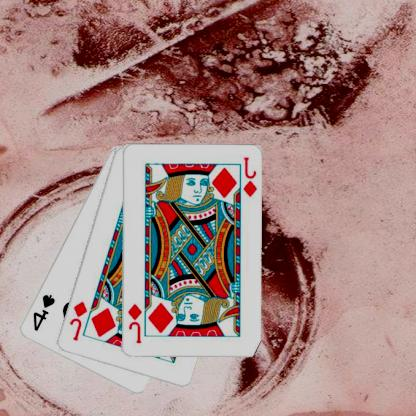4S: (32, 292, 58, 332)
JD: (68, 298, 90, 342), (242, 155, 260, 199), (127, 301, 144, 345)
